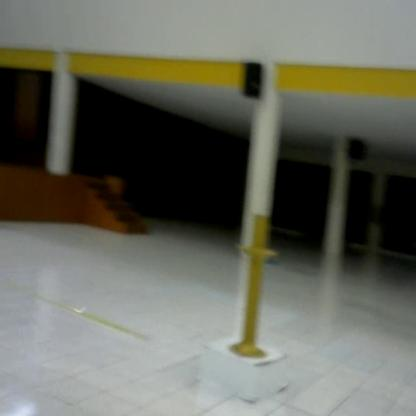pole: (229, 212, 279, 363)
